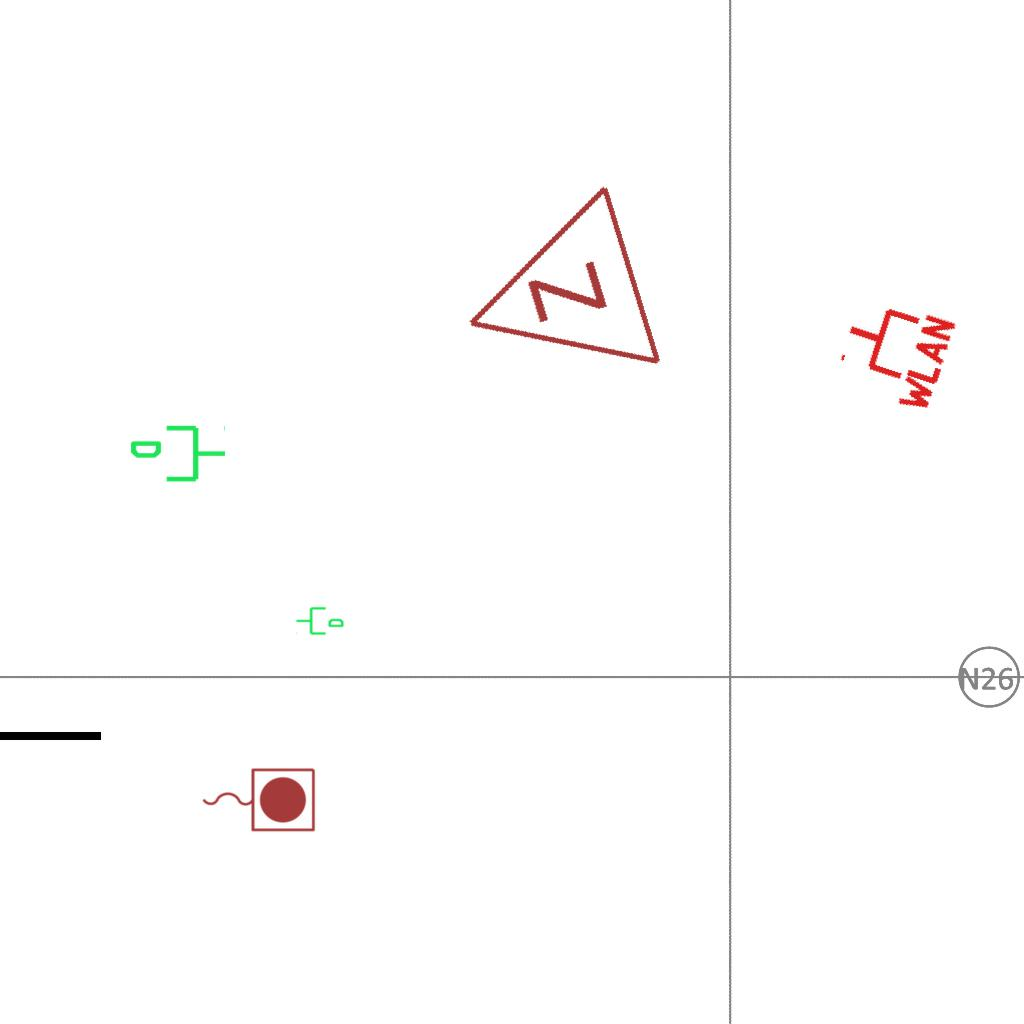Datenanschluss_einfach: (128, 421, 228, 490), (295, 603, 345, 637)
WLAN: (827, 287, 960, 419)
Zimmersignalleuchte: (428, 178, 678, 424)
Zugtaster: (197, 763, 319, 835)
